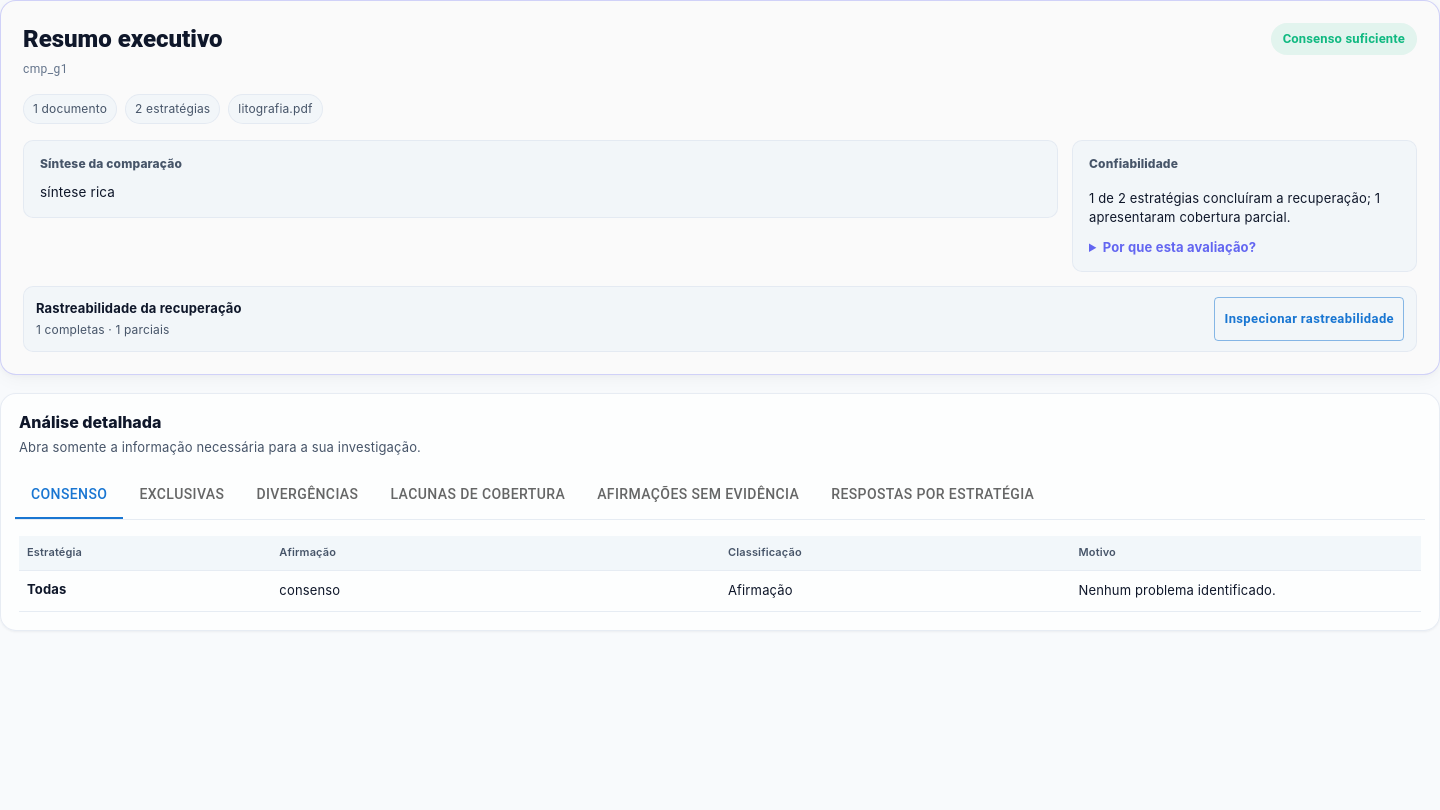
Test case: Grade visual da comparação (ComparisonDetailGrid) › tabela de claims com evidência marcada
Click the tab "Respostas por estratégia": (933, 495) [815,471,1050,519]
(page scrolled)
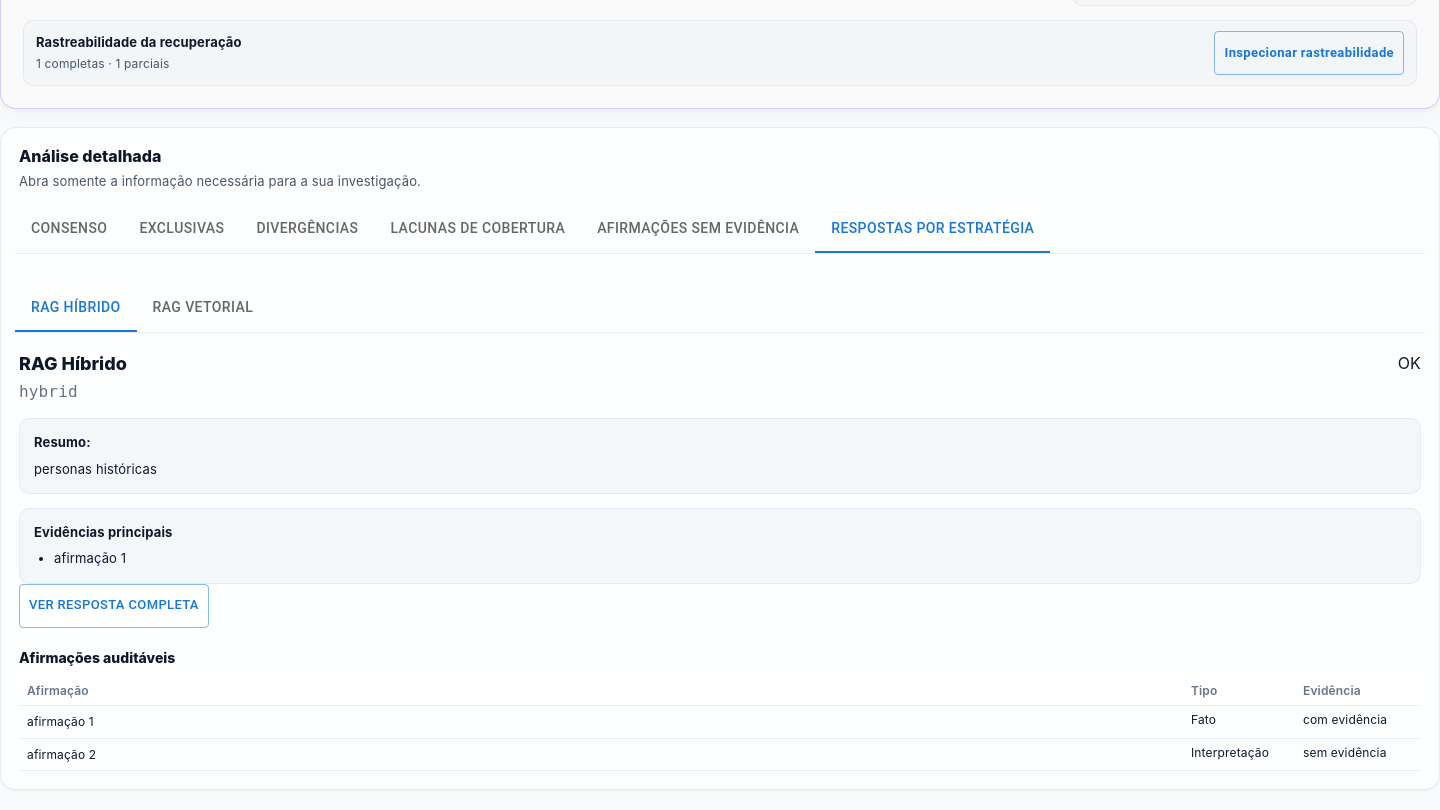
Expected: the row with test id "claim-row" shows "afirmação 1", [27,714,94,729]
Expected: the row with test id "claim-row" shows "Fato", [1191,712,1216,727]
Expected: the text "com evidência" is shown once, [1295,705,1421,738]
